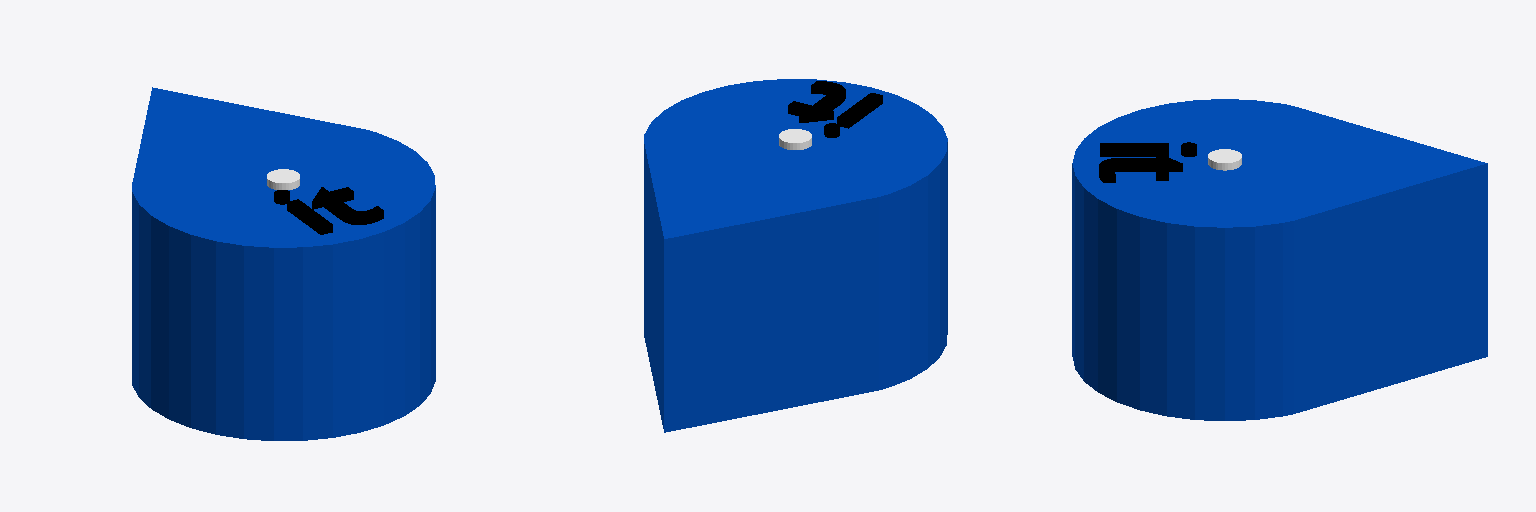
File: it_handle.obj
3 views of the same model, side by side, from view 1: azimuth 30°, elevation 25°; view 2: azimuth 150°, elevation 25°; view 3: azimuth 270°, elevation 25° (orthographic).
Parts seen in each view (by area): view 1: ItHandle_Text.001; view 2: ItHandle_Text.001; view 3: ItHandle_Text.001.
Part boxes in pixels (left/top/right/bottom): ItHandle_Text.001: left=132, top=87, right=435, bottom=440; ItHandle_Text.001: left=644, top=79, right=947, bottom=432; ItHandle_Text.001: left=1072, top=99, right=1487, bottom=420.
Bounding box in the file's own units: 2 × 1.46 × 2.72.